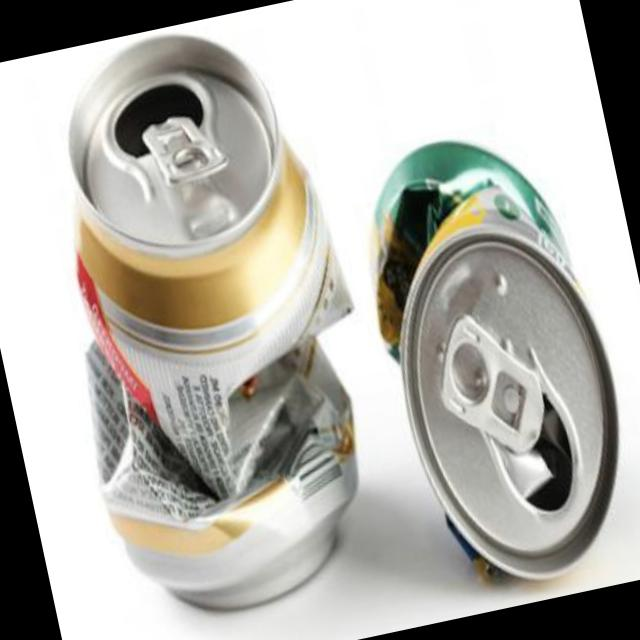metal: (71, 32, 357, 604), (376, 138, 617, 574)
